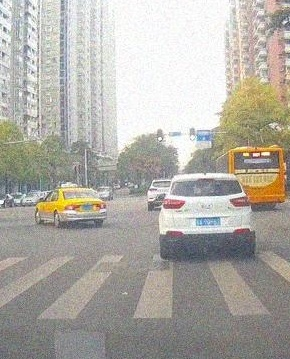L_light: (162, 198, 186, 209), (64, 204, 81, 210)
R_light: (229, 196, 251, 207), (93, 203, 106, 209)
T_light: (198, 178, 214, 182), (78, 190, 84, 192)
day-no: (159, 172, 256, 259), (59, 187, 107, 228)
